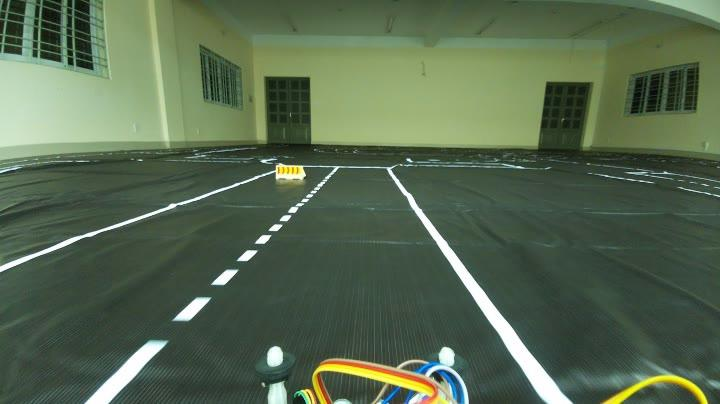roadblock: (274, 163, 312, 177)
